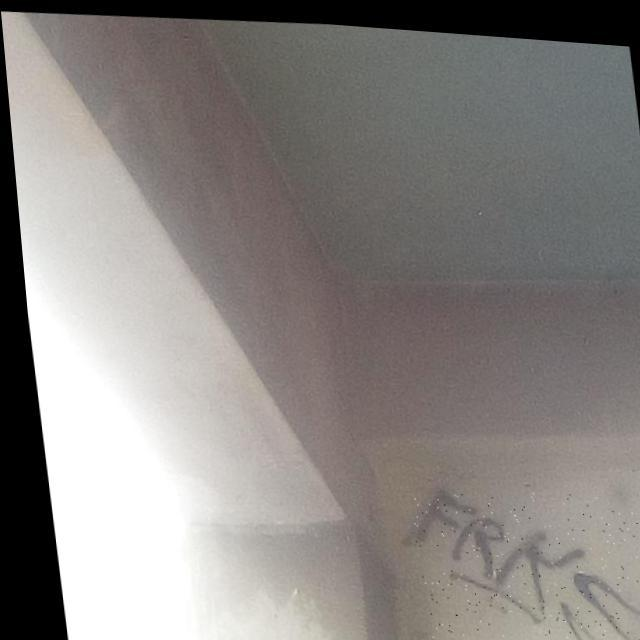-: (397, 471, 640, 640)
